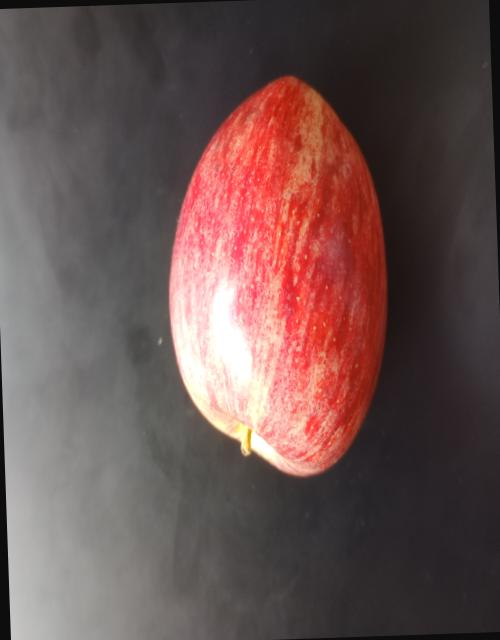Manzana: (110, 73, 432, 530)
